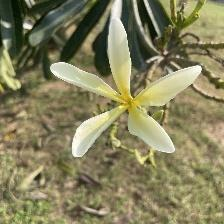champaka: (50, 15, 209, 163)
